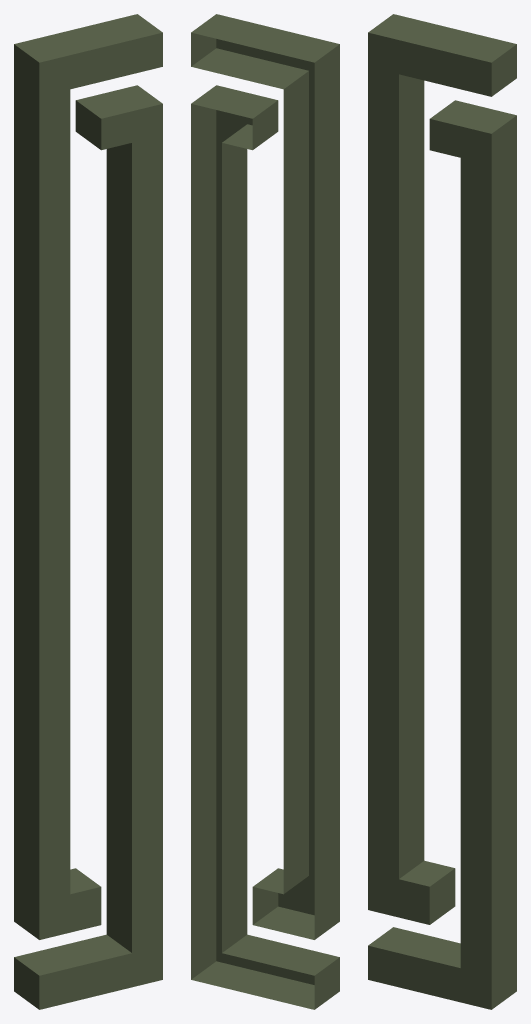
The model's file is decor_long.fbx.
3 renders of one model, left to right at view 1: azimuth 30°, elevation 25°; view 2: azimuth 150°, elevation 25°; view 3: azimuth 330°, elevation 25°, orthographic.
Visible parts, largest first — view 1: decor_long; view 2: decor_long; view 3: decor_long.
Part boxes in pixels (left/top/right/bottom): decor_long: left=14, top=14, right=162, bottom=1009; decor_long: left=191, top=14, right=339, bottom=1009; decor_long: left=368, top=14, right=516, bottom=1009.
Size of the model in its own units: 0.4243 by 3.11 by 0.151.
